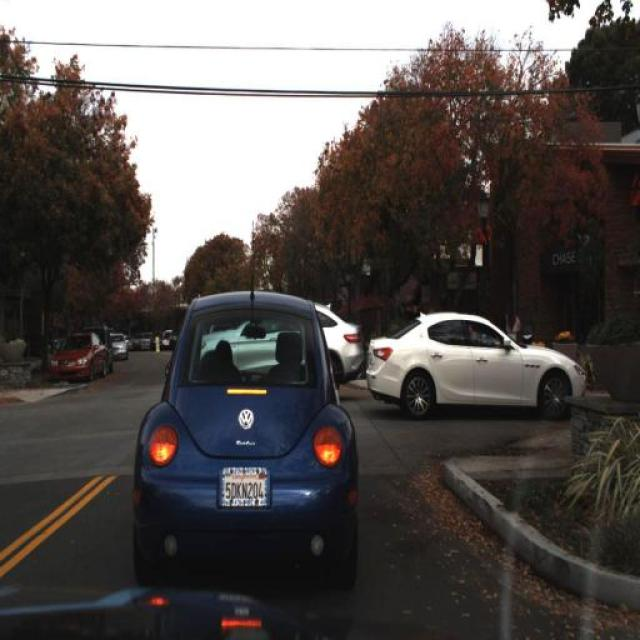car: (126, 270, 360, 590), (361, 306, 594, 420), (187, 290, 364, 389), (48, 334, 108, 384)
trafficLight: (518, 298, 534, 348), (503, 299, 518, 350)
